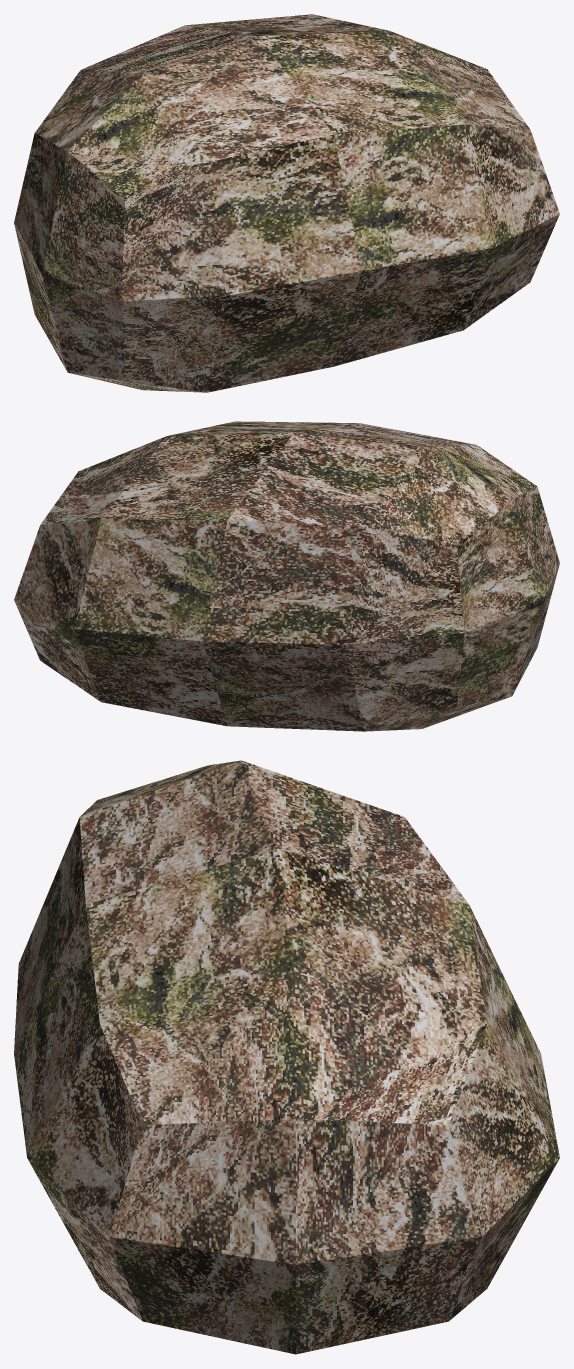
File: pixel_rock_lowpoly.fbx
3 renders of one model, top to bottom at view 1: azimuth 30°, elevation 25°; view 2: azimuth 150°, elevation 25°; view 3: azimuth 270°, elevation 25°, orthographic. The views are drawn at different scales.
Visible parts, largest first — view 1: psx_rock_lowpoly; view 2: psx_rock_lowpoly; view 3: psx_rock_lowpoly.
Part boxes in pixels (<box>): psx_rock_lowpoly: <box>14,14,559,392</box>; psx_rock_lowpoly: <box>14,421,559,731</box>; psx_rock_lowpoly: <box>14,760,559,1354</box>.
Bounding box in the file's own units: 1028 × 614 × 728.
